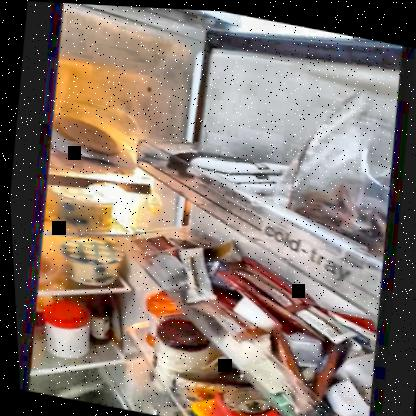chocolate: (145, 135, 282, 192)
dates: (289, 166, 389, 240)
heavy_cream: (205, 386, 303, 415)
salami: (50, 113, 121, 158)
yoghurt: (55, 233, 122, 288), (44, 184, 115, 233)
